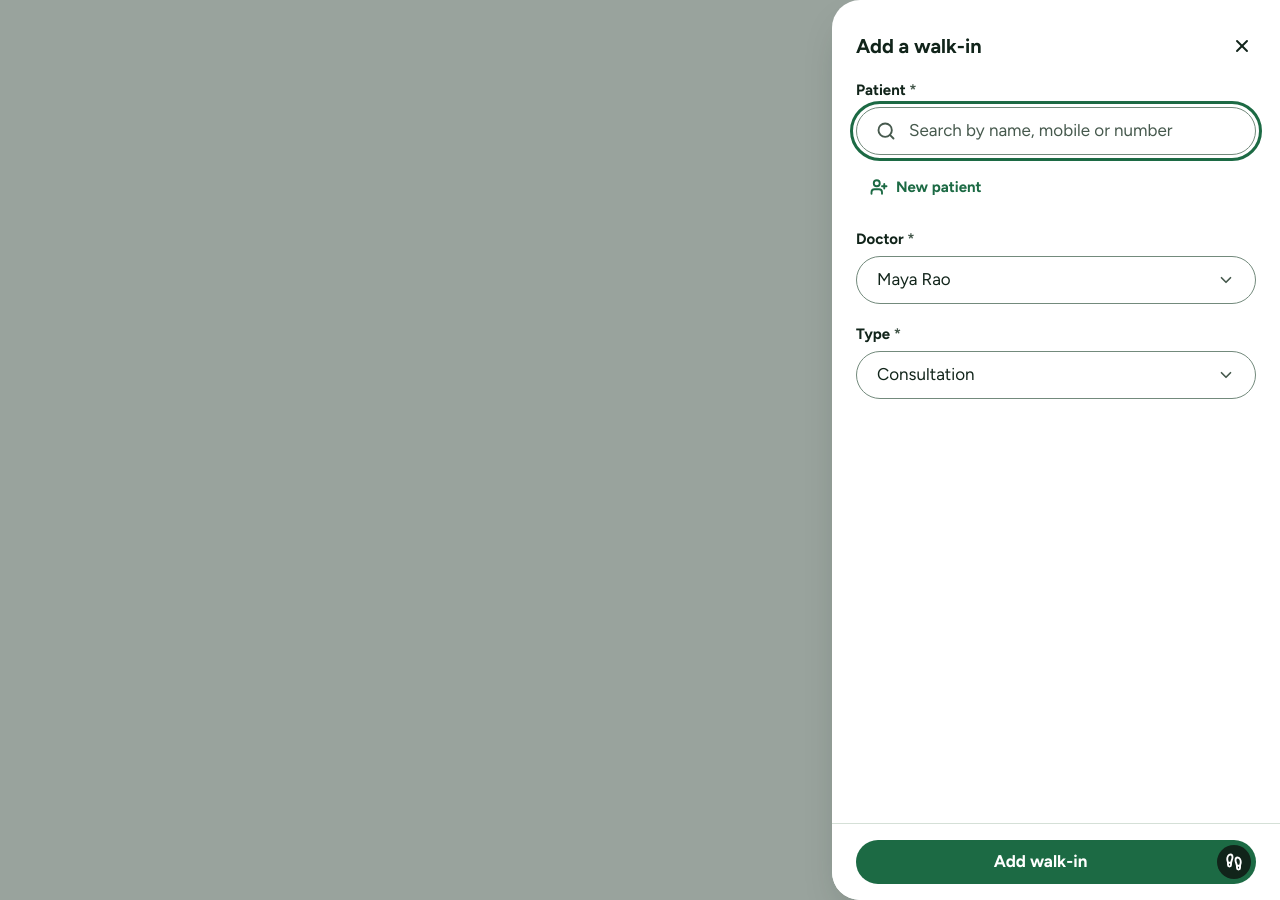
Test case: WalkInSheet (plan §11.3; D171, D173, D175) › names a doctor's leave at the doctor and a holiday on the card, going on with a patient it added (D139, D145)
Type "roh" into the search field.
click(1056, 131); type("roh")  # box [856, 107, 1256, 155]
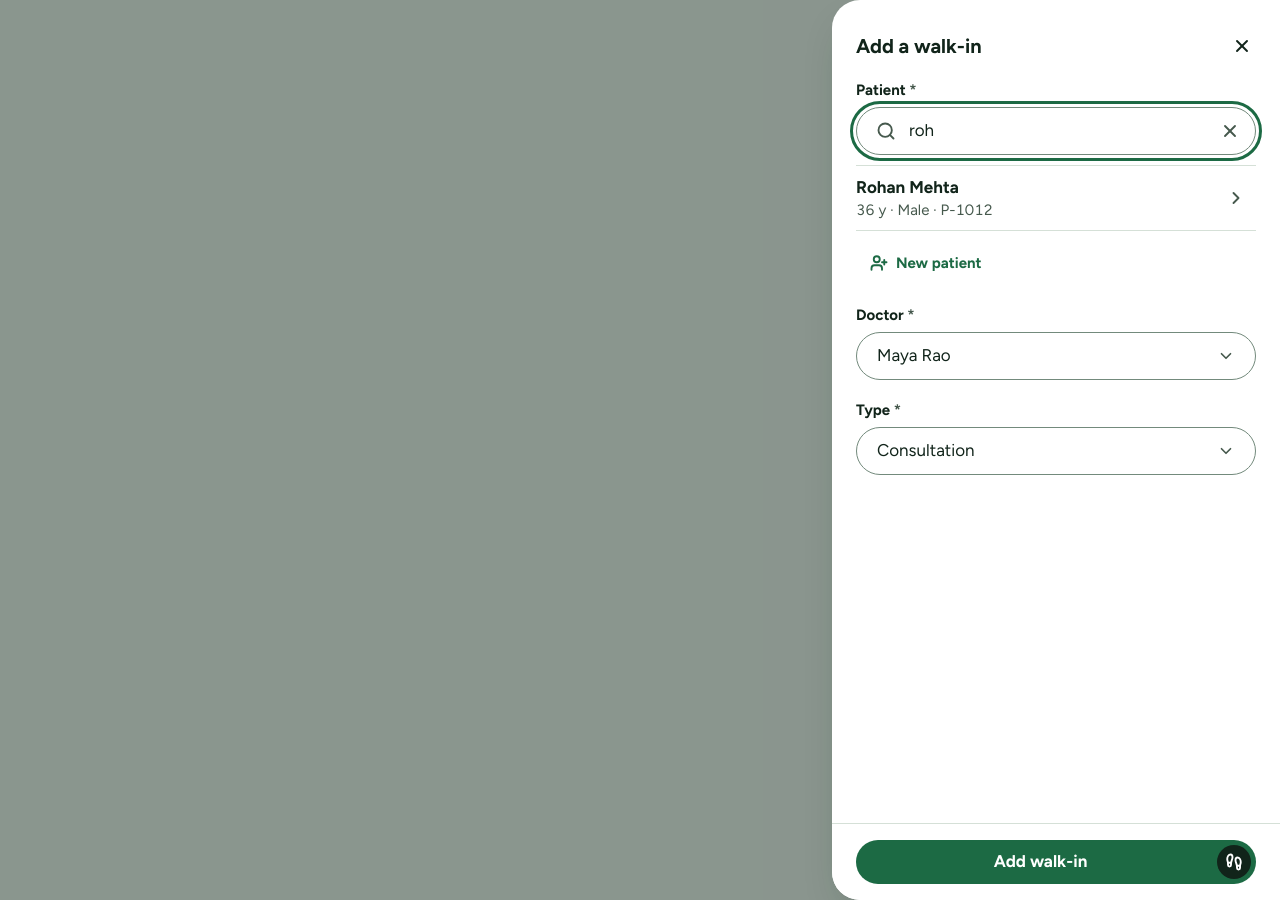
Click the button "Rohan Mehta".
click(907, 187)  # box [856, 175, 1214, 200]
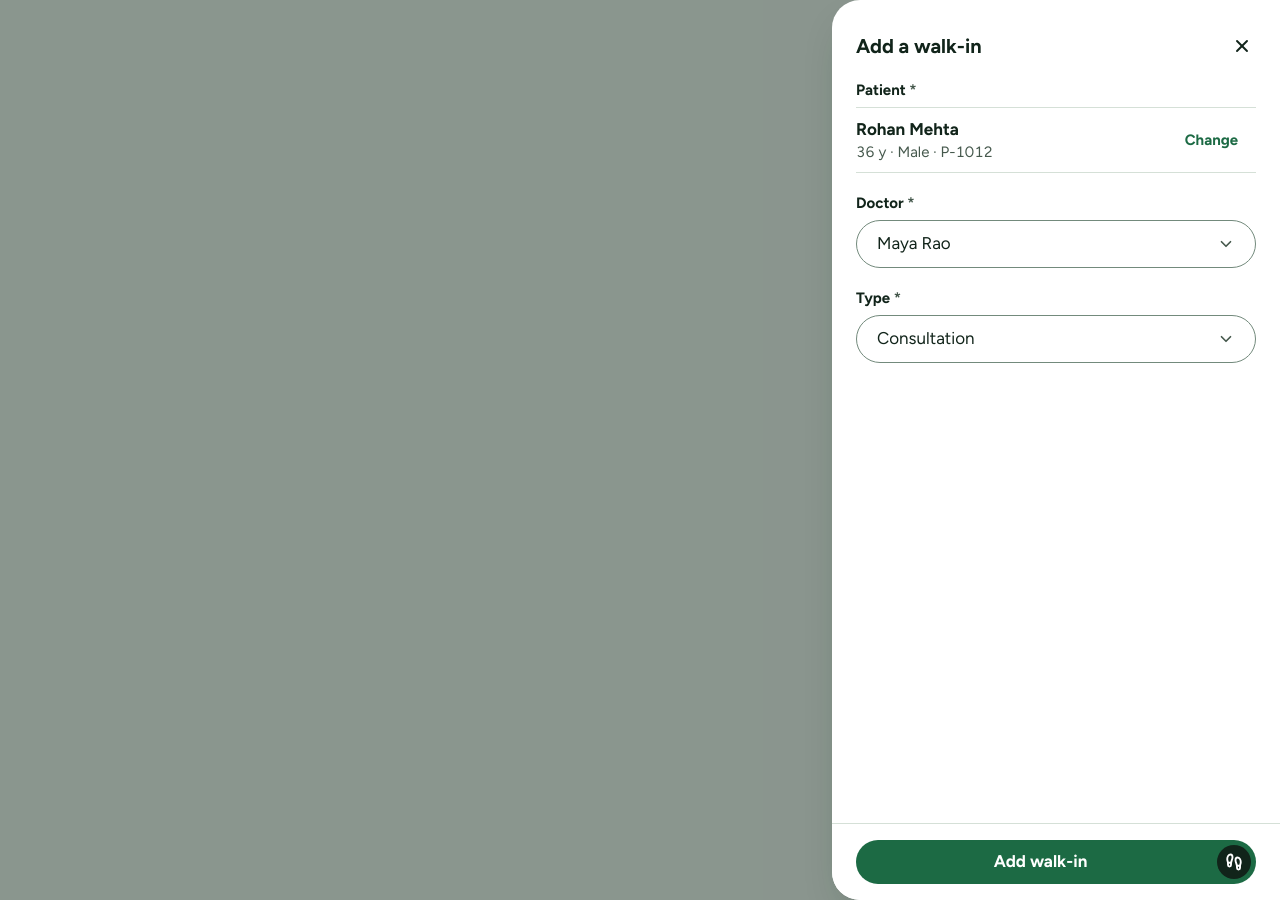
Click the button "Add walk-in".
click(1056, 862)  # box [856, 840, 1256, 884]
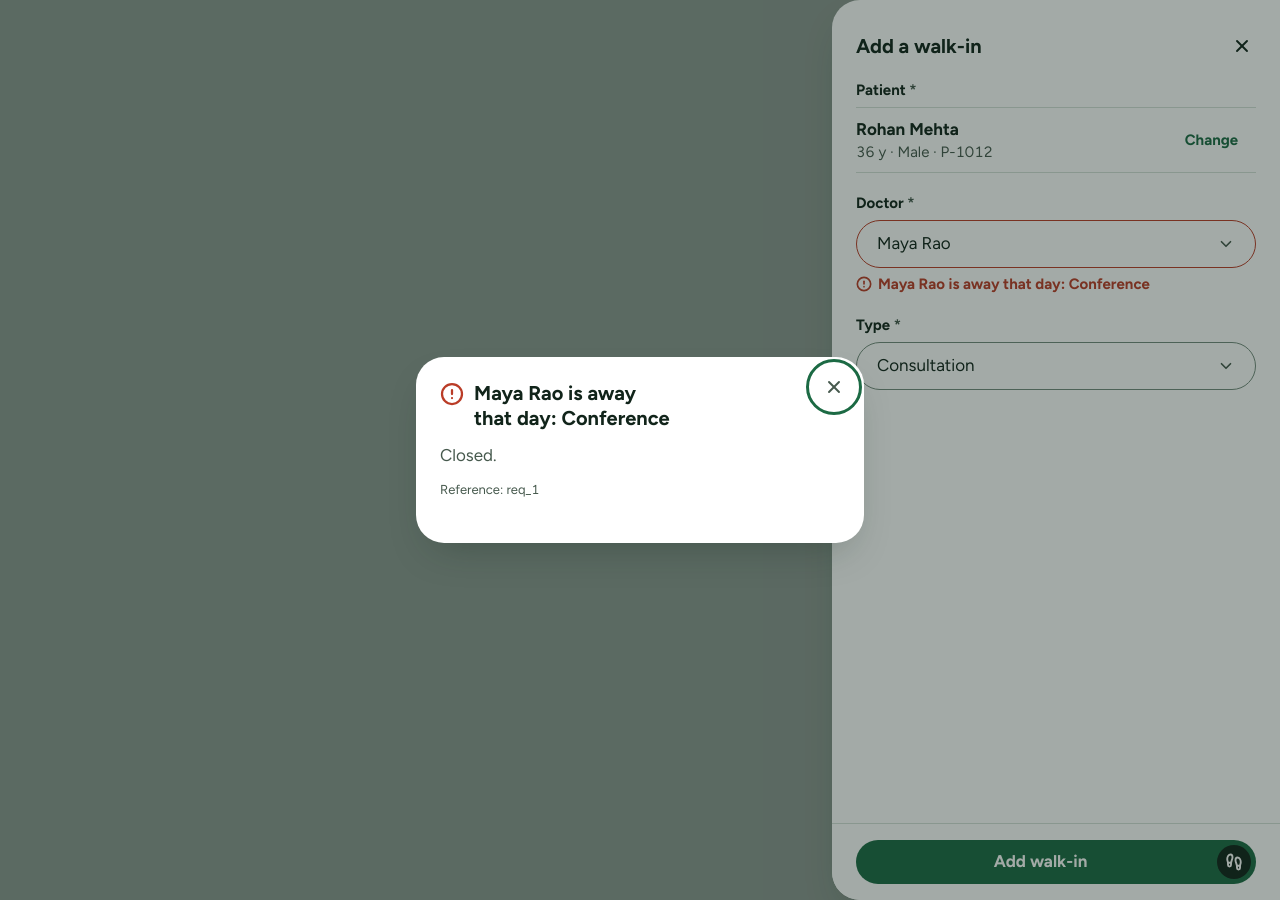
Click the button named "Close".
click(834, 388)  # box [812, 366, 856, 410]
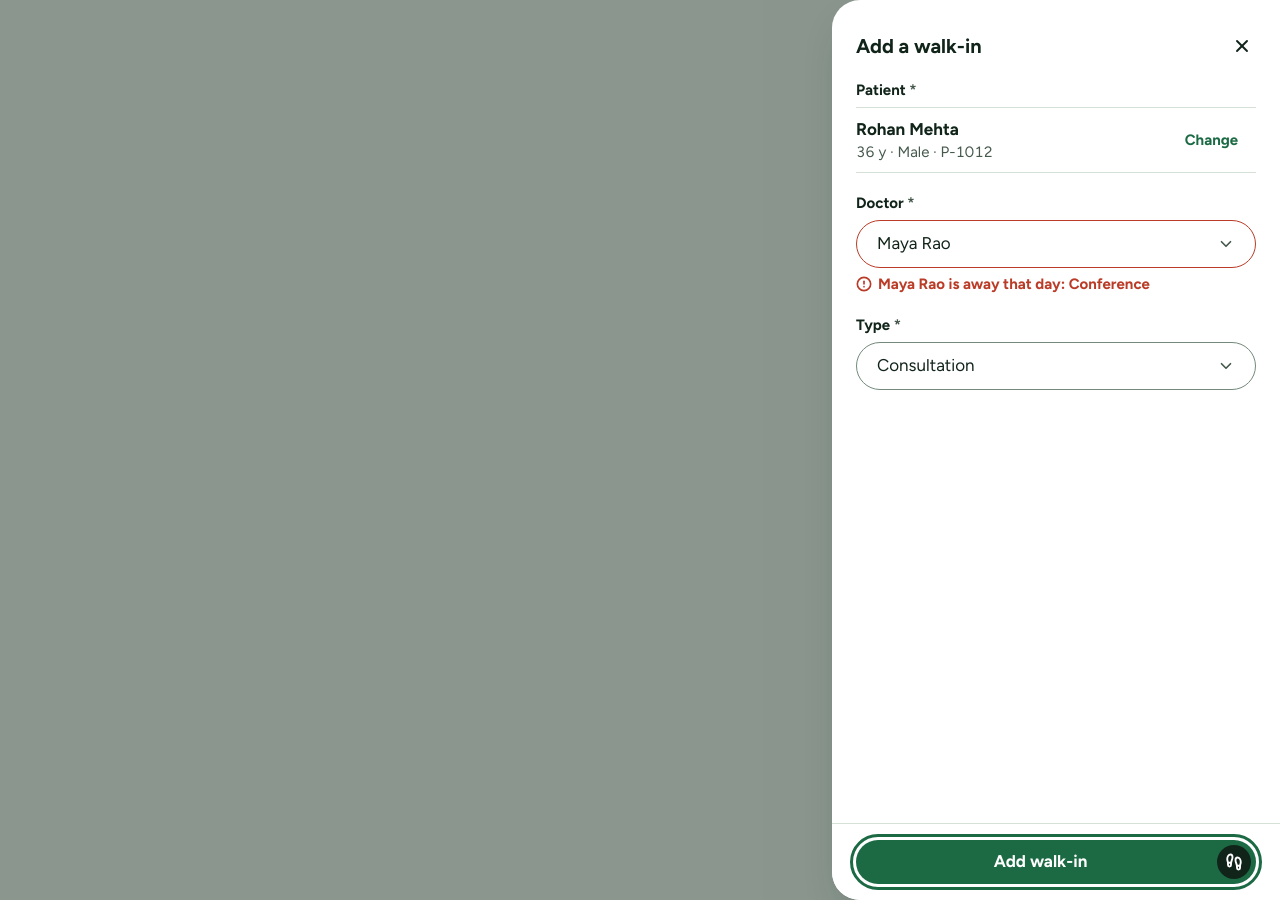
Check: the text "Maya Rao is away that day: Conference" is shown, box [856, 275, 1150, 293]
Check: the button with aria-label "Change Rohan Mehta" is shown, box [1171, 118, 1252, 162]
Click the button "Add walk-in".
click(1056, 862)  # box [856, 840, 1256, 884]
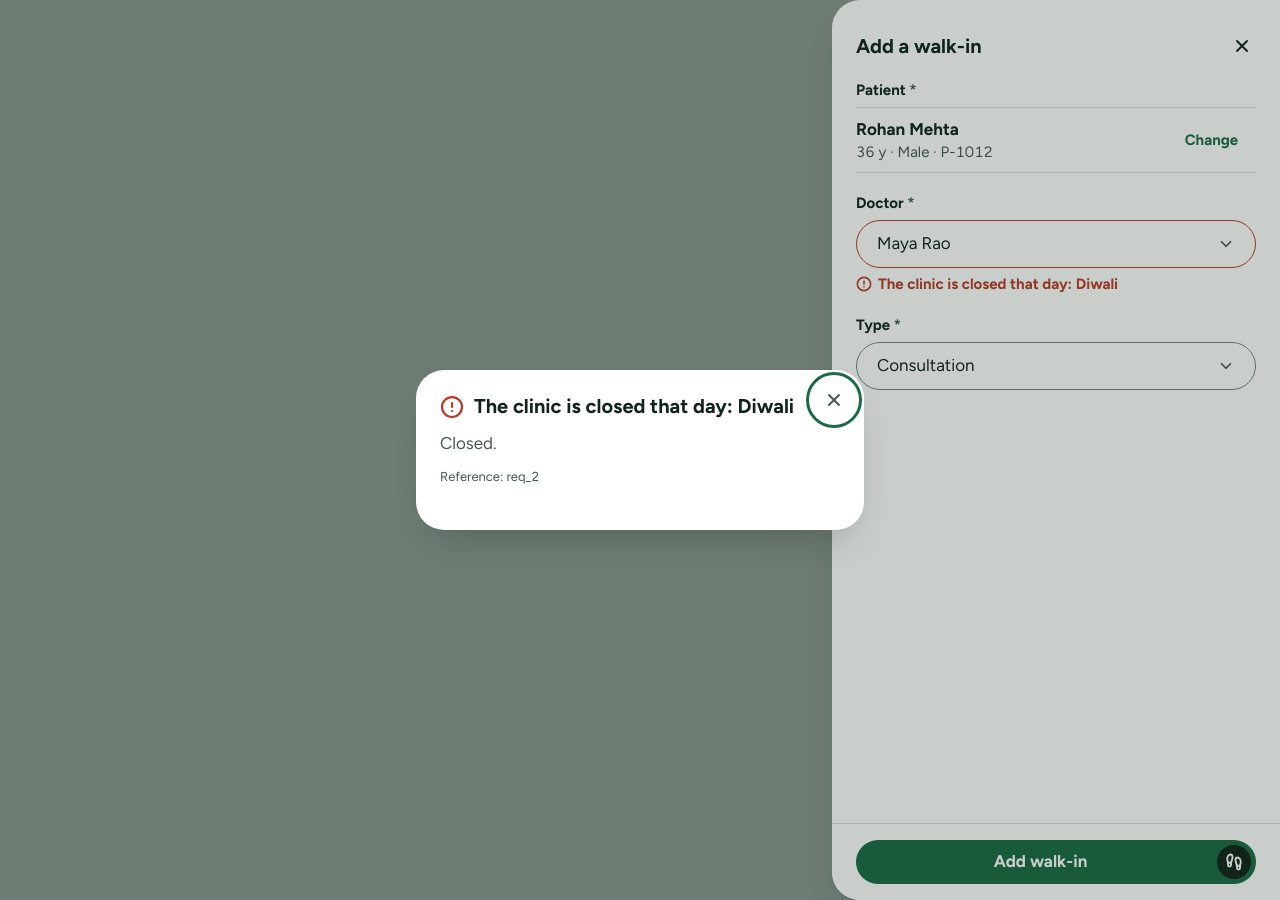
Check: the dialog "The clinic is closed that day: Diwali" is shown, box [416, 370, 864, 530]
